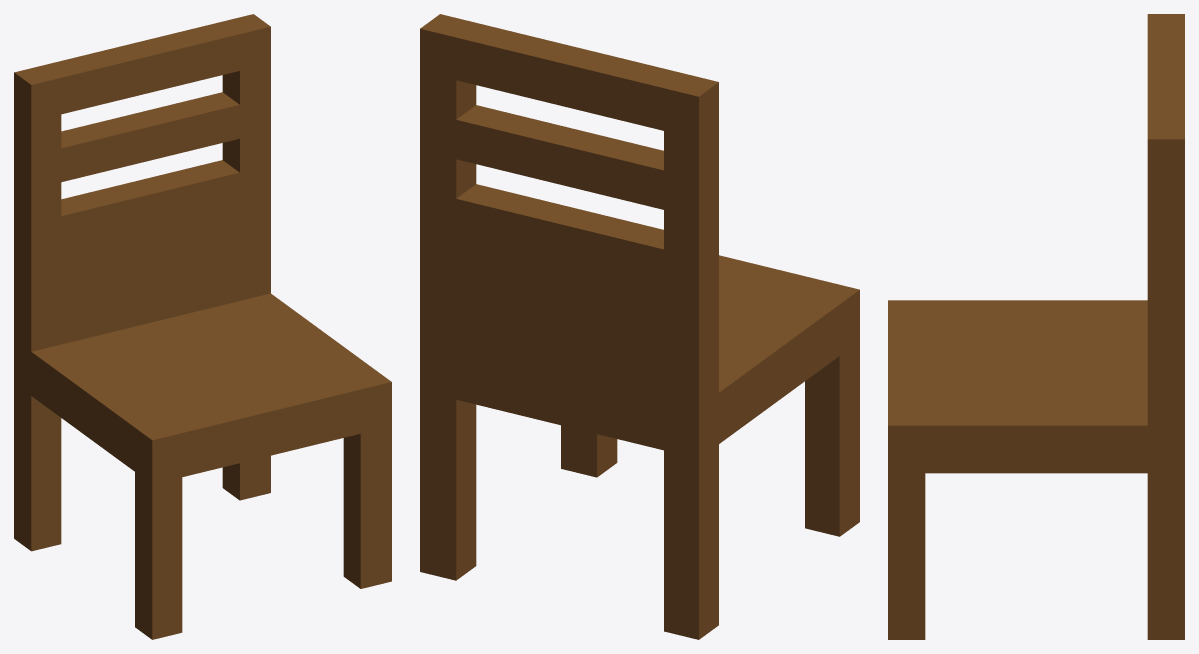
Rendered from chair.fbx.
The picture shows the model from 3 angles, left to right: view 1: azimuth 30°, elevation 25°; view 2: azimuth 150°, elevation 25°; view 3: azimuth 270°, elevation 25°; orthographic projection. The views are drawn at different scales.
Visible parts, largest first — view 1: Cube; view 2: Cube; view 3: Cube.
Boxes of the visible parts, left/top/right/bottom form: Cube: left=14, top=14, right=391, bottom=639; Cube: left=420, top=14, right=859, bottom=639; Cube: left=888, top=14, right=1184, bottom=639.
Size of the model in its own units: 200 by 372 by 200.
